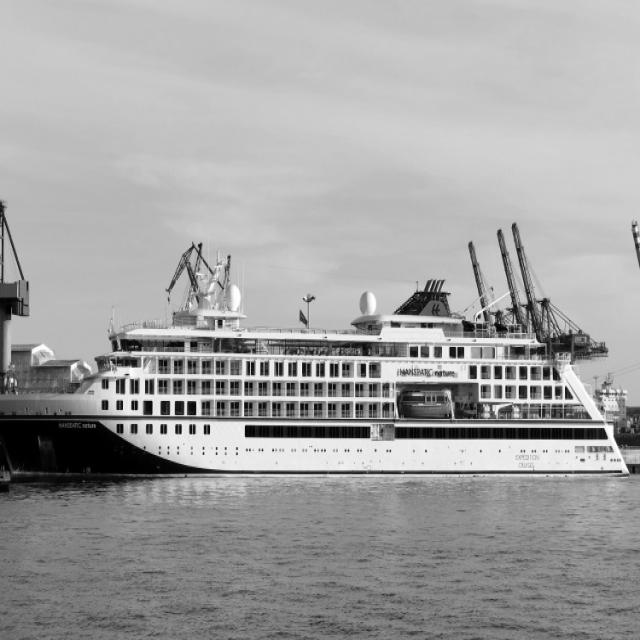cruises: (1, 249, 633, 488)
